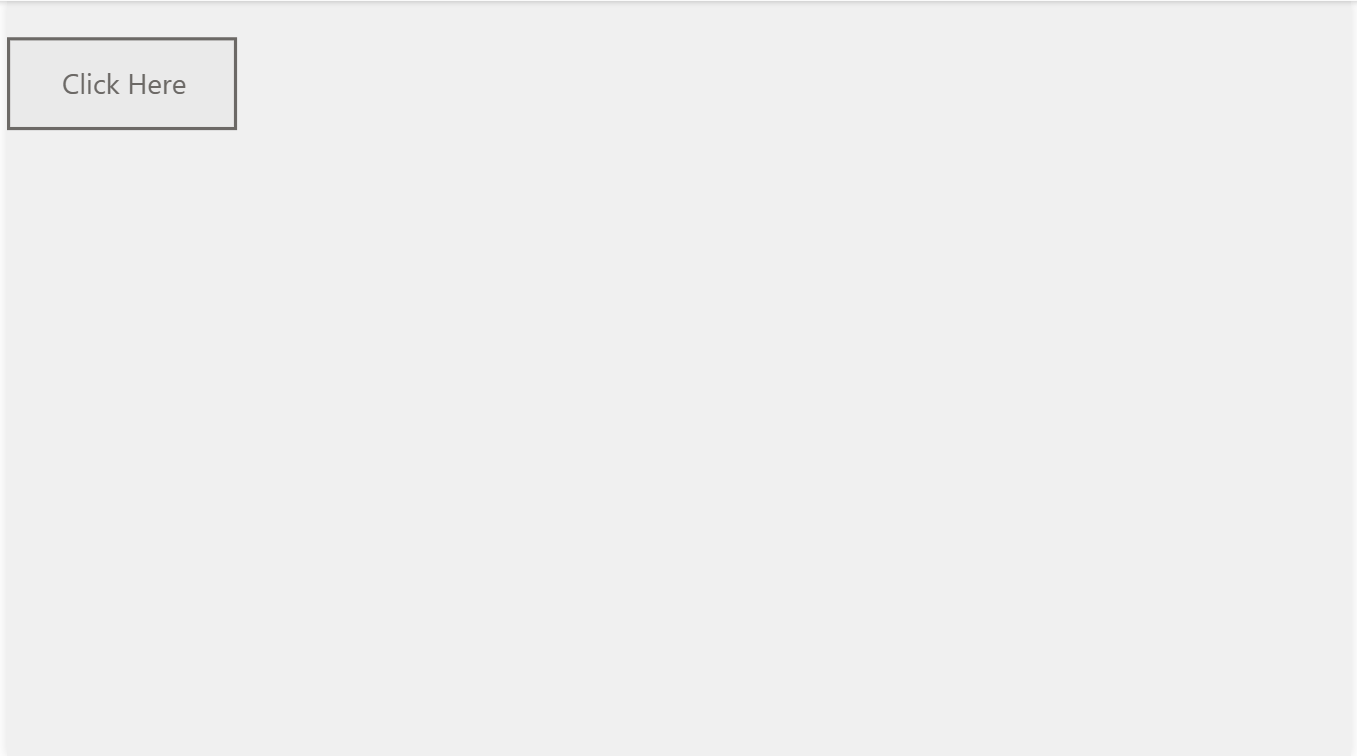

This screenshot's page, from the dashboard's own definition file:
{"tool":"powerbi","page":{"name":"Pop-Out Slicer Panel","canvas":[1280,720],"ordinal":7},"visuals":[{"type":"actionButton","box":[0,35,219.1,88.4],"z":0}]}

Visuals, with their boxes in screenshot pixels (x1, y1, x2, y2), scaled from the page's 1280x720 canvas onto the 1357x756 screenshot:
actionButton: 0:37:232:130
